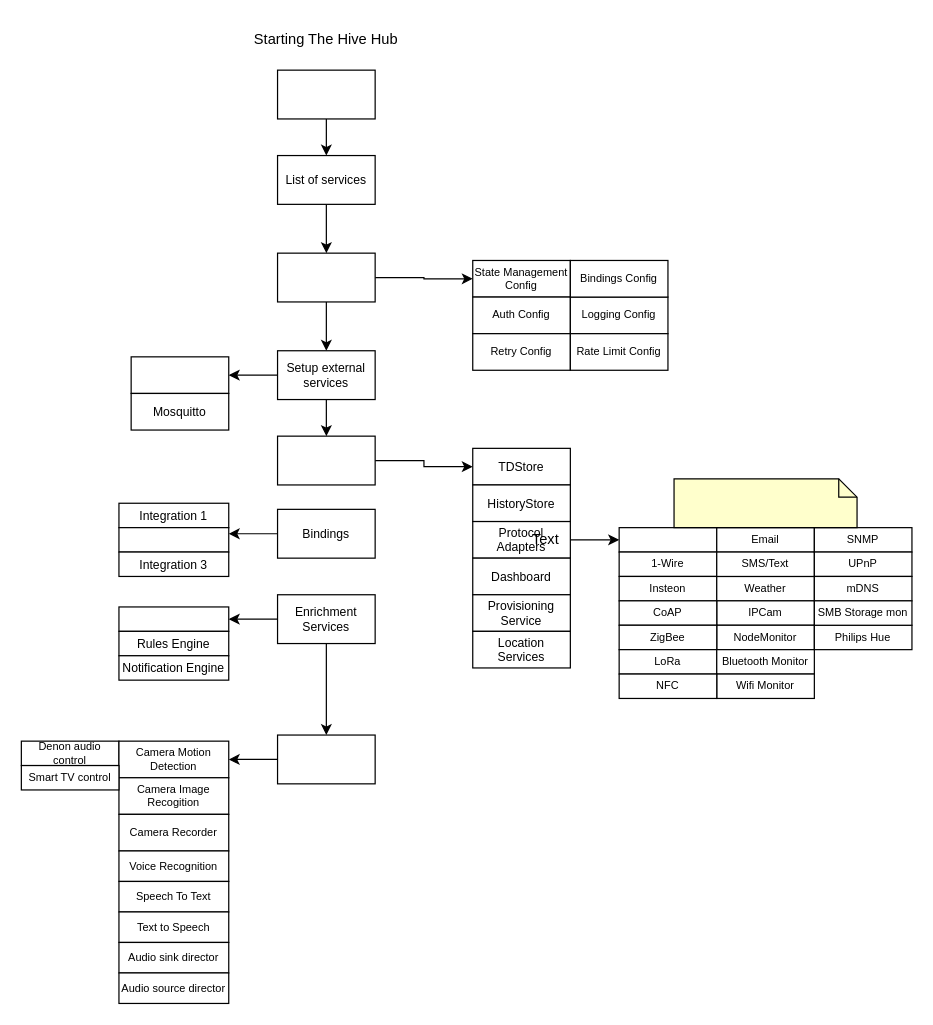
This 933x1025 diagram has some shape labels left out. The shapes that lost their labels are listed below. From the top down, each one's box as (x1, y1, x2, y2) in pixels, then its label:
(276, 69, 375, 119): Launcher
(276, 252, 375, 302): Setup Config
(130, 356, 229, 393): MongoDB
(276, 435, 375, 485): Application Services
(673, 478, 857, 528): Can protocol adapters be implemented as bindings?
(118, 526, 229, 552): Integration 2
(618, 526, 717, 552): ZWave
(118, 606, 229, 631): Wallpaper
(276, 734, 375, 784): Audio/Video Services
